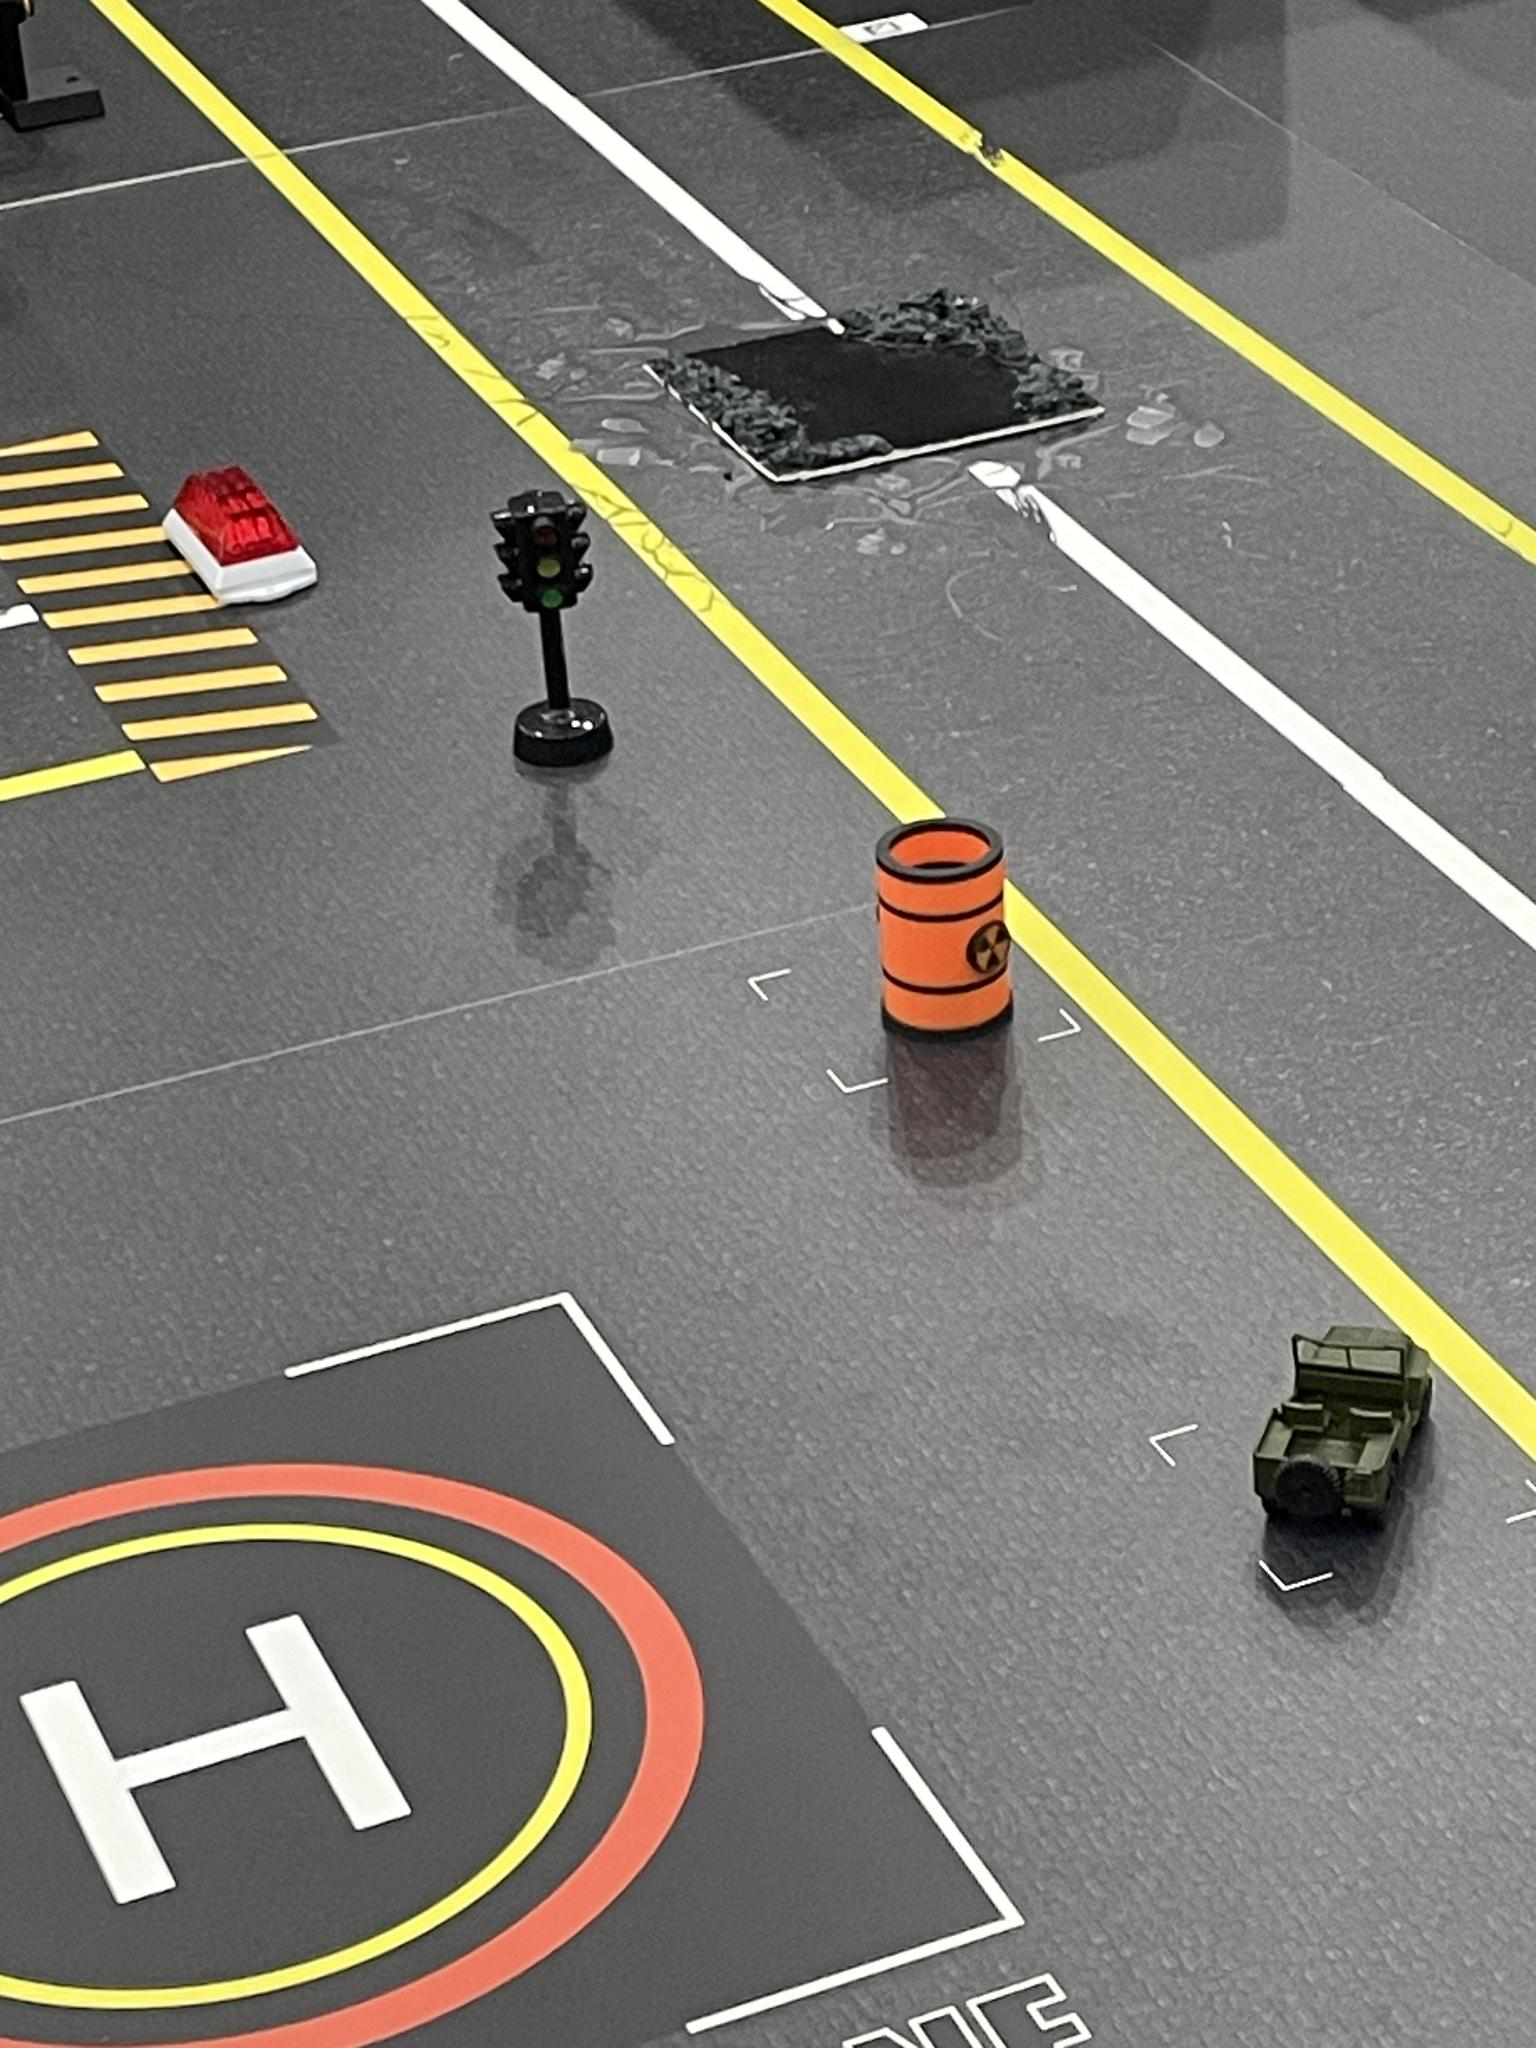Car: (1255, 1313, 1439, 1524)
Hazmat: (863, 810, 1018, 1048)
